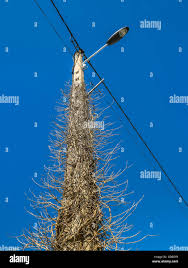light_pole: (57, 37, 102, 248)
